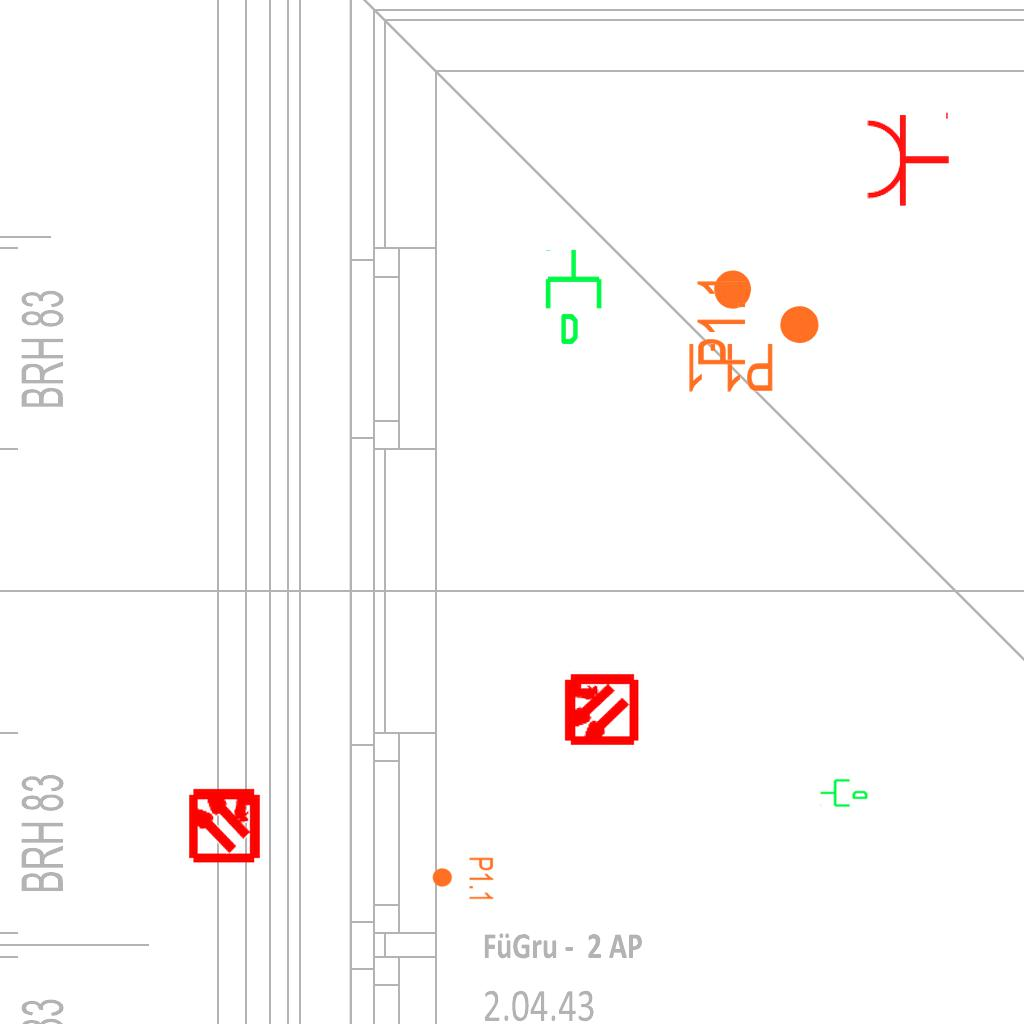Datenanschluss_einfach: (541, 247, 610, 347), (819, 775, 869, 809)
Downlight_LED_Einbauleuchten_Flur: (683, 267, 776, 395), (694, 275, 822, 368), (431, 856, 495, 902)
OT_Multisensormelder_(Kombination_RMO_WMD): (168, 767, 281, 880), (543, 653, 656, 766)
Schukosteckdose_einfach: (864, 108, 951, 208)
